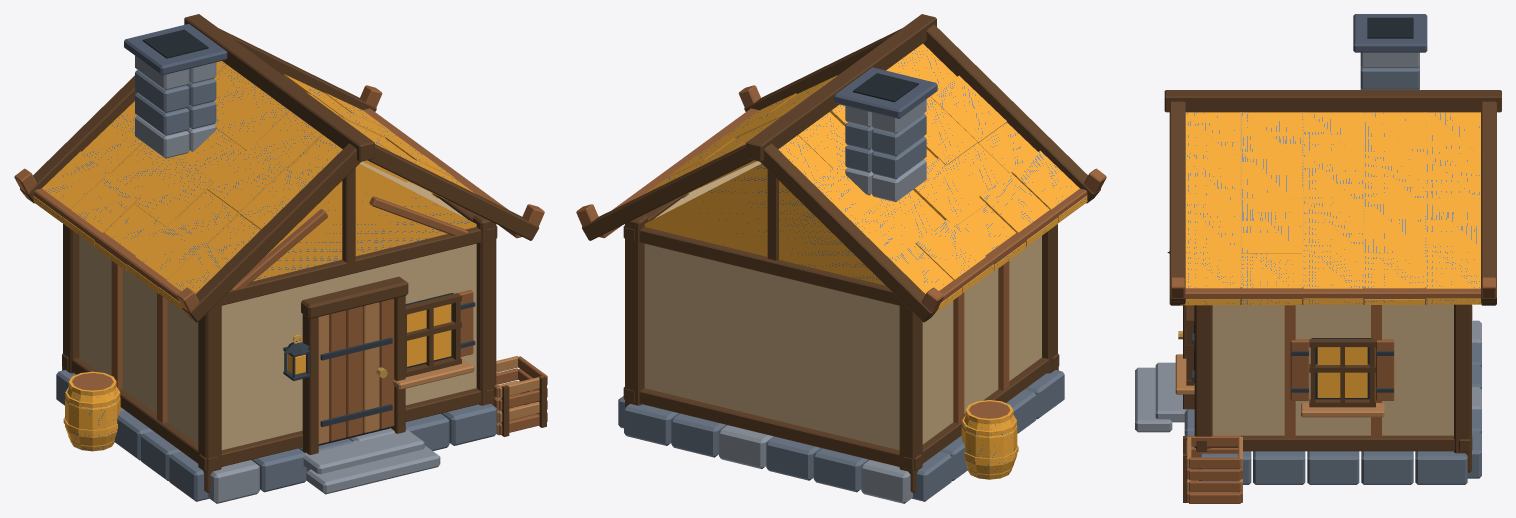
Rendered from HouseBrown.glb.
3 views of the same model, side by side, from view 1: azimuth 30°, elevation 25°; view 2: azimuth 150°, elevation 25°; view 3: azimuth 270°, elevation 25° (orthographic). The views are drawn at different scales.
Visible parts, largest first — view 1: HouseBrown; view 2: HouseBrown; view 3: HouseBrown.
Boxes of the visible parts, left/top/right/bottom form: HouseBrown: left=14, top=14, right=547, bottom=503; HouseBrown: left=576, top=14, right=1106, bottom=503; HouseBrown: left=1135, top=14, right=1501, bottom=503.
Size of the model in its own units: 11.51 by 10.5 by 9.9.
1 material, 1 textured.
